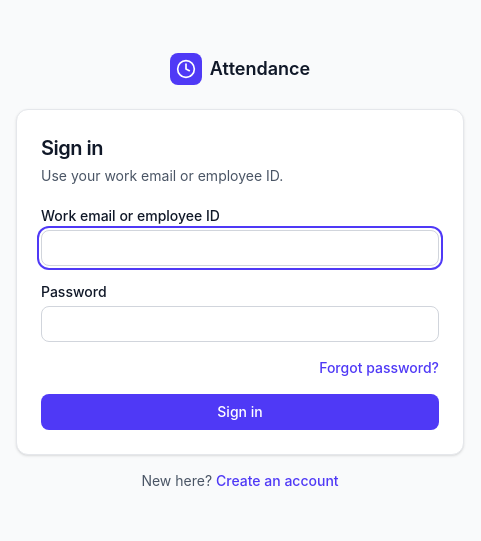
Test case: LoginPage › shows a generic message for bad credentials
This screenshot has width=481, height=541.
Type "a@kxn.com" into the field labelled "Work email or employee ID" at (240,248), box [41,230,439,266]
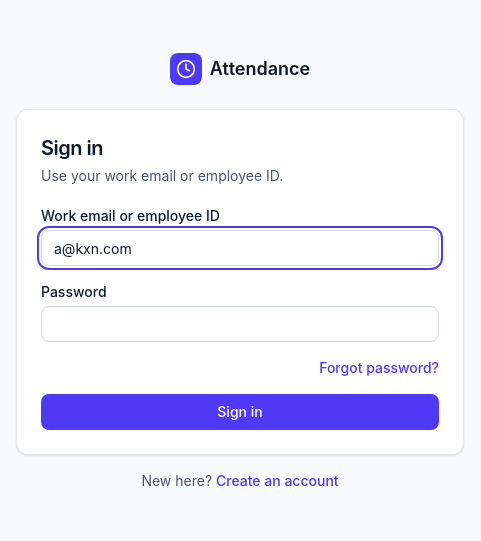
Type "wrong" into the password field labelled "Password" at (240,324), box [41,306,439,342]
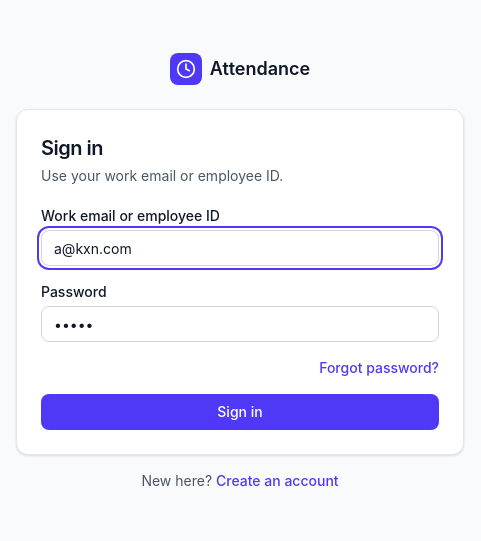
Click the button "Sign in" at (240,412), box [41,394,439,430]
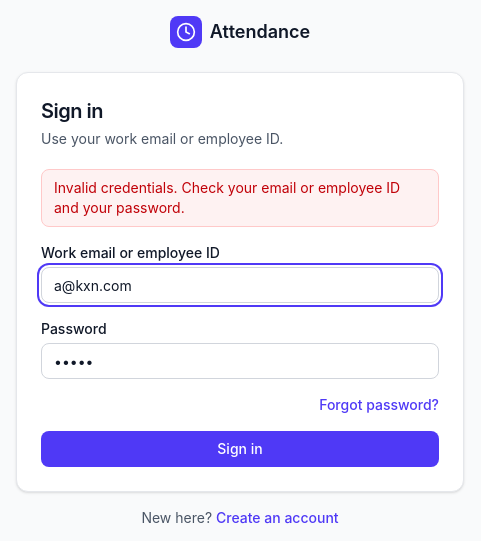
Expected: the text "Invalid credentials. Check your email or employee ID and your password." is shown, [41,169,439,227]
